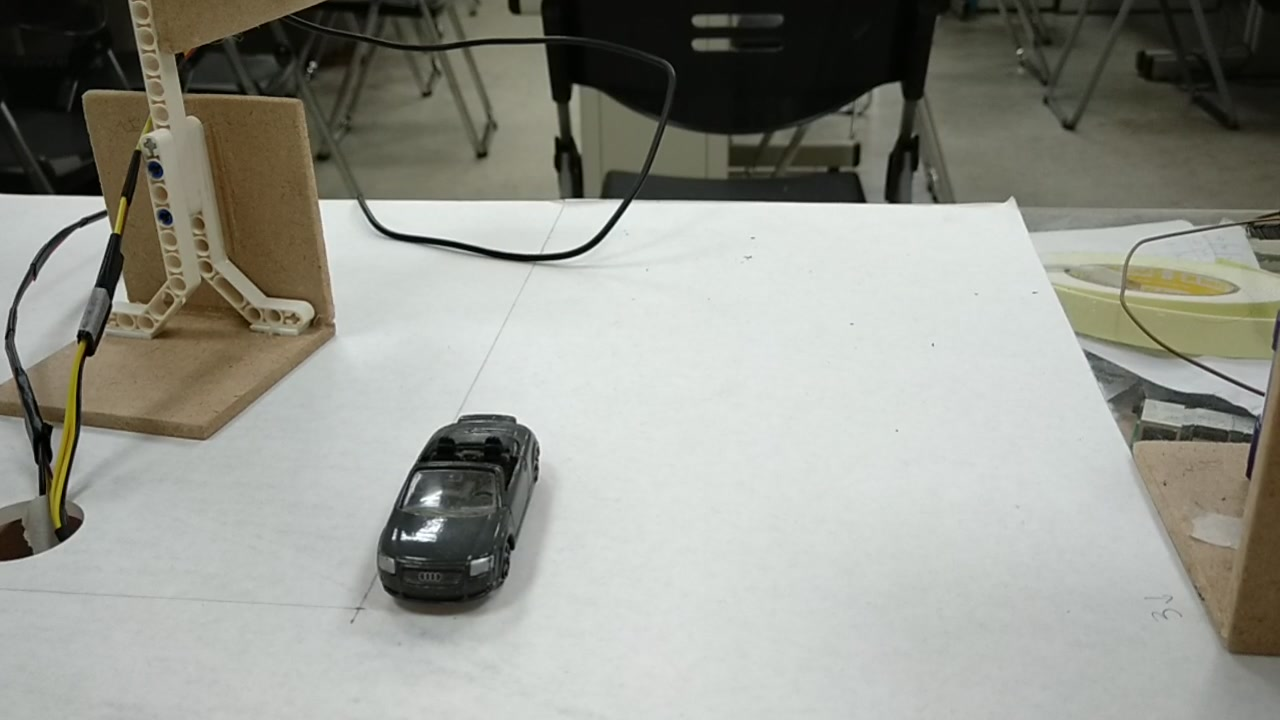car: (377, 421, 543, 613)
